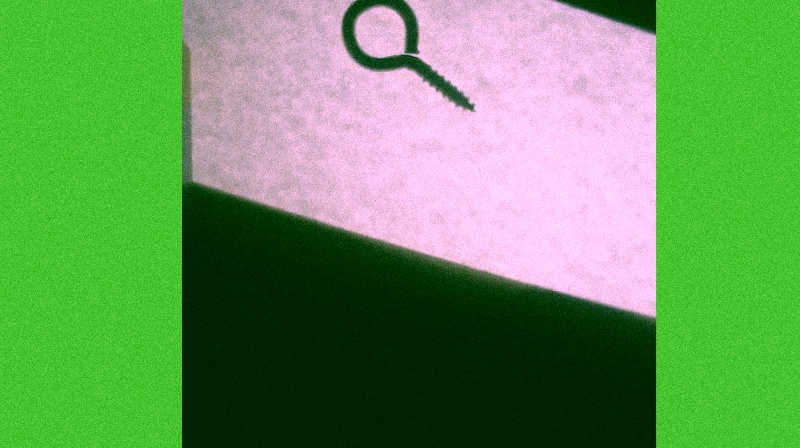O001: (335, 0, 477, 114)
